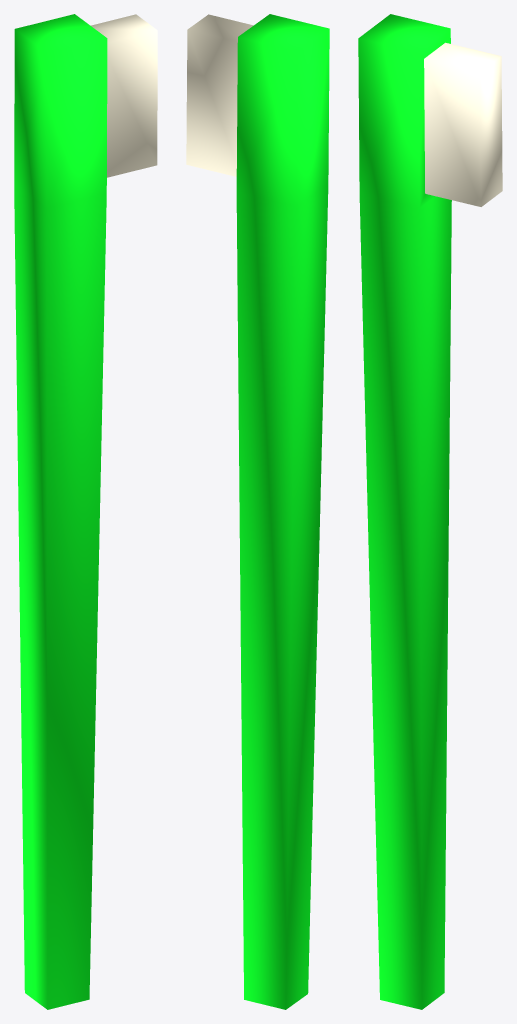
Rendered from ToothBrush.004.glb.
3 renders of one model, left to right at view 1: azimuth 30°, elevation 25°; view 2: azimuth 150°, elevation 25°; view 3: azimuth 330°, elevation 25°, orthographic.
Parts seen in each view (by area): view 1: ToothBrush.004; view 2: ToothBrush.004; view 3: ToothBrush.004.
Part boxes in pixels (bbox=[...]): ToothBrush.004: bbox=[14, 14, 157, 1009]; ToothBrush.004: bbox=[186, 14, 329, 1009]; ToothBrush.004: bbox=[358, 14, 502, 1009].
Bounding box in the file's own units: 0.0328 × 0.2598 × 0.0163.
1 material, 1 textured.
